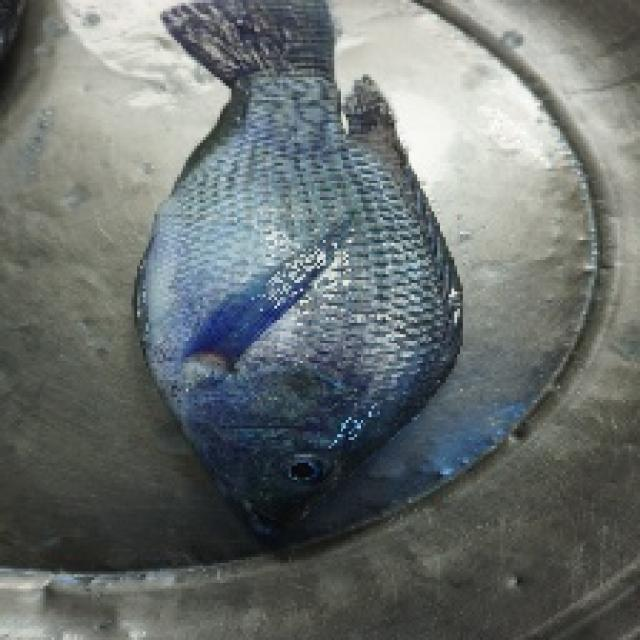Fresh: (113, 87, 466, 553)
